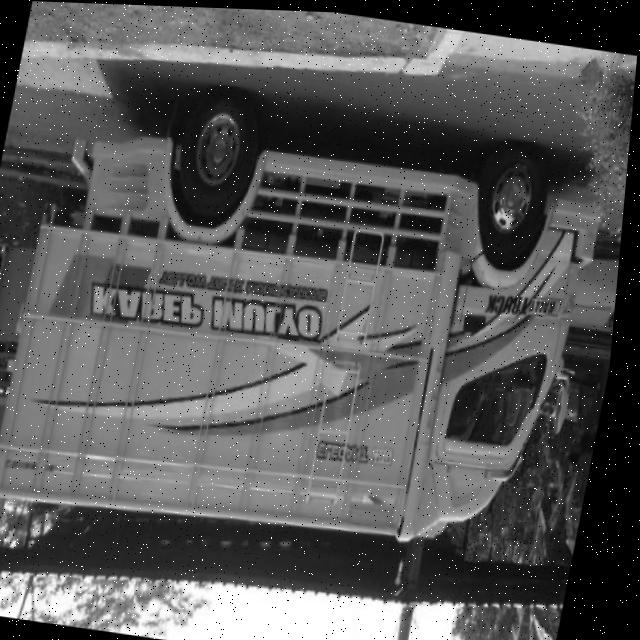truck: (378, 125, 628, 585)
